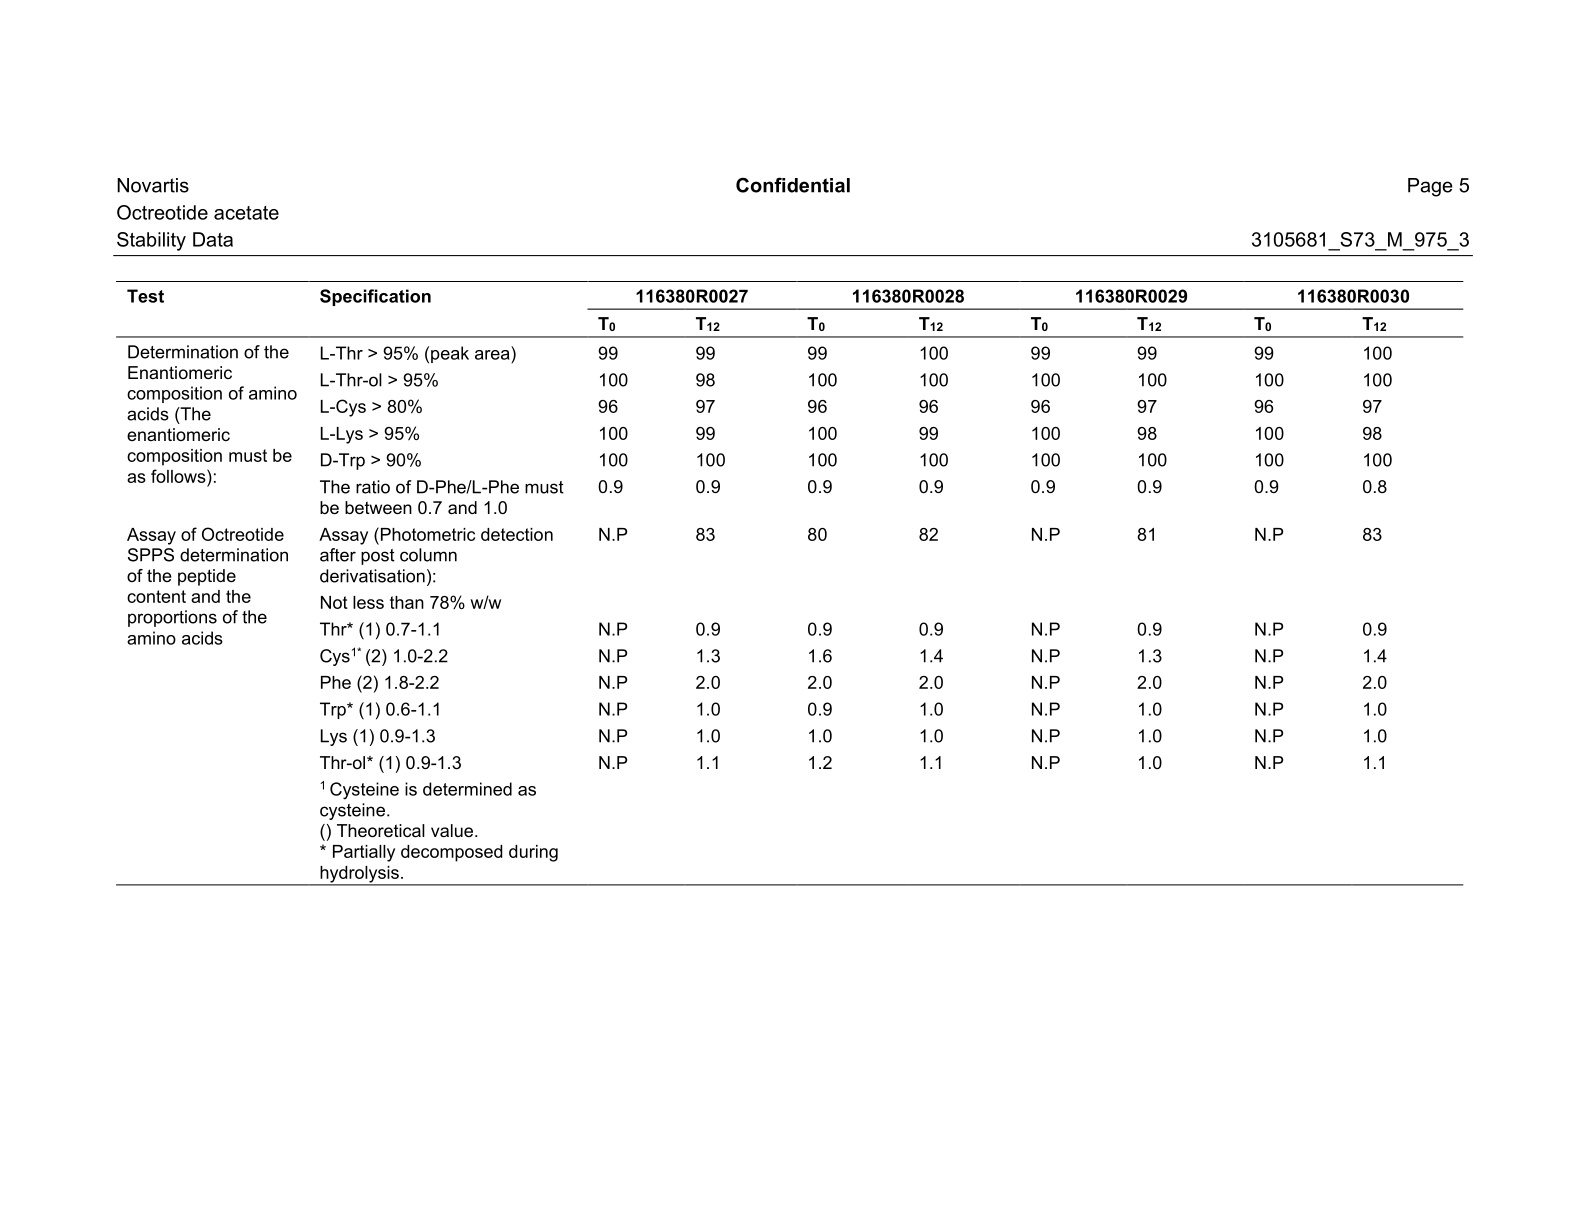partial_lined_merged_cells: (114, 278, 1467, 887)
